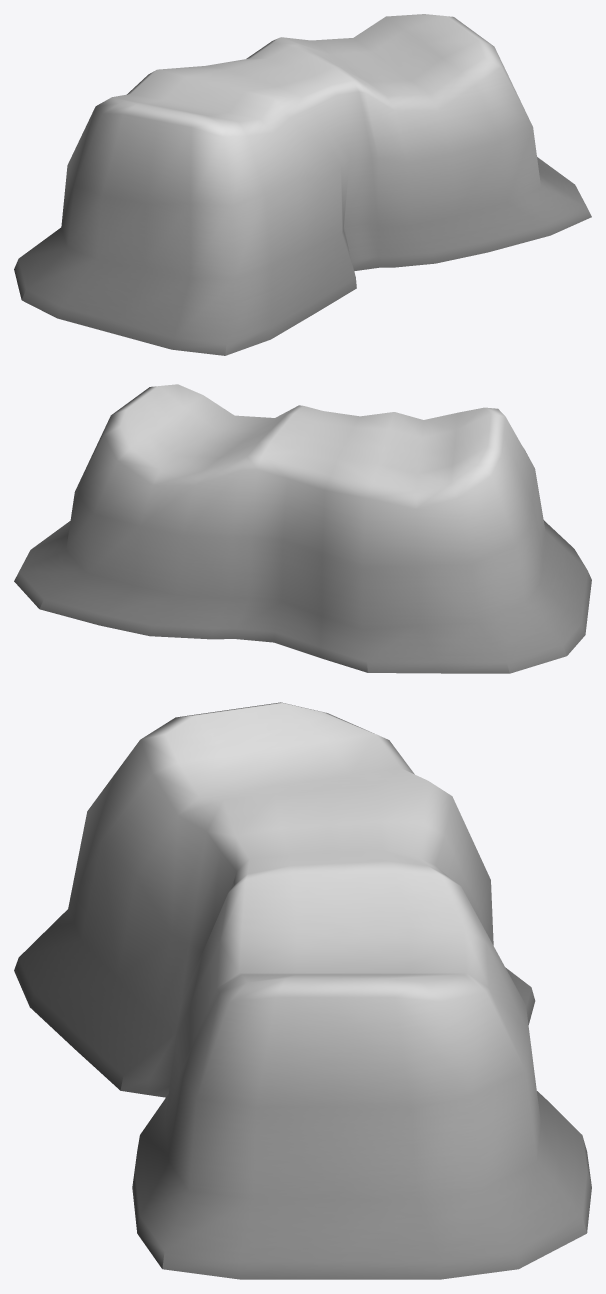
File: ShortGum.fbx
3 renders of one model, top to bottom at view 1: azimuth 30°, elevation 25°; view 2: azimuth 150°, elevation 25°; view 3: azimuth 270°, elevation 25°, orthographic. The views are drawn at different scales.
Parts seen in each view (by area): view 1: ShortGum; view 2: ShortGum; view 3: ShortGum.
Boxes of the visible parts, x1,y1,x2,y2 form: ShortGum: [14, 14, 591, 355]; ShortGum: [14, 384, 591, 673]; ShortGum: [14, 702, 591, 1279].
Size of the model in its own units: 3.46 by 1.18 by 2.24.
